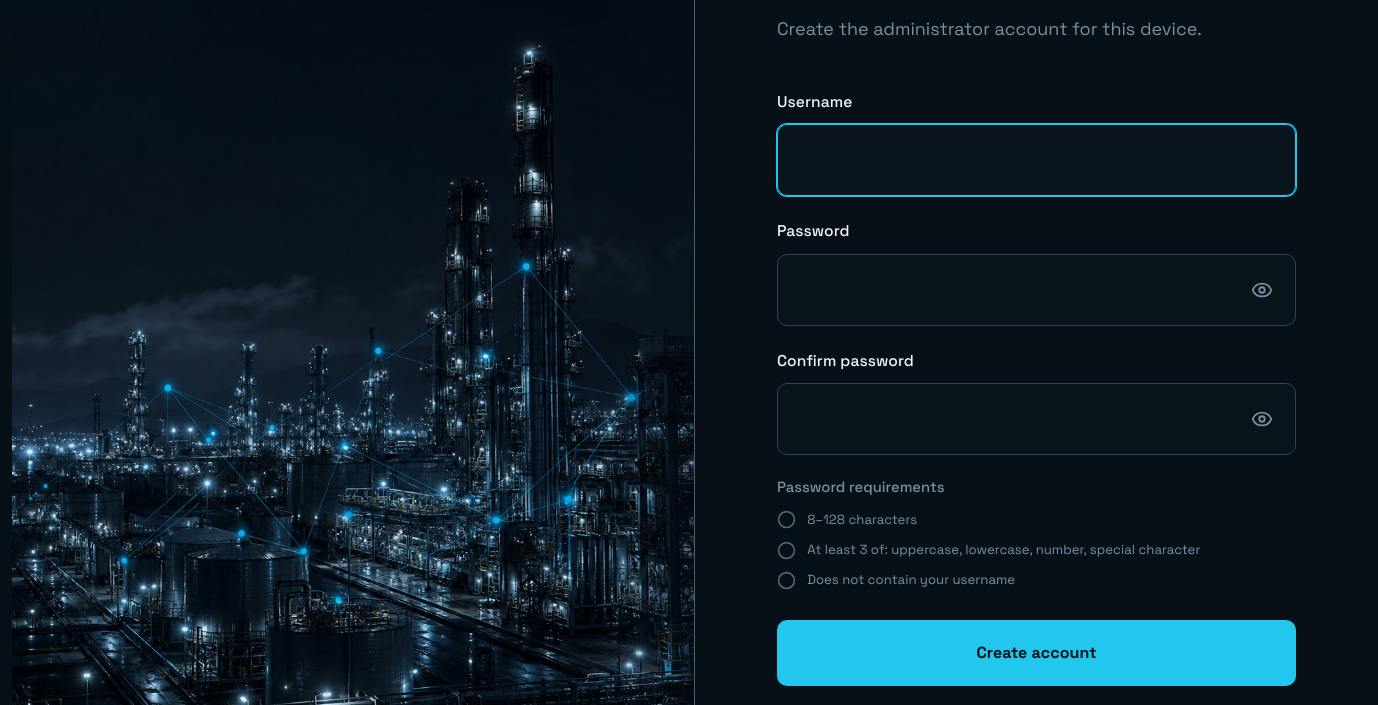
SetupPage › shows required field errors before accepting the form
(page scrolled)
Click the button "Create account": (1037, 653) x1=777 y1=620 x2=1296 y2=686
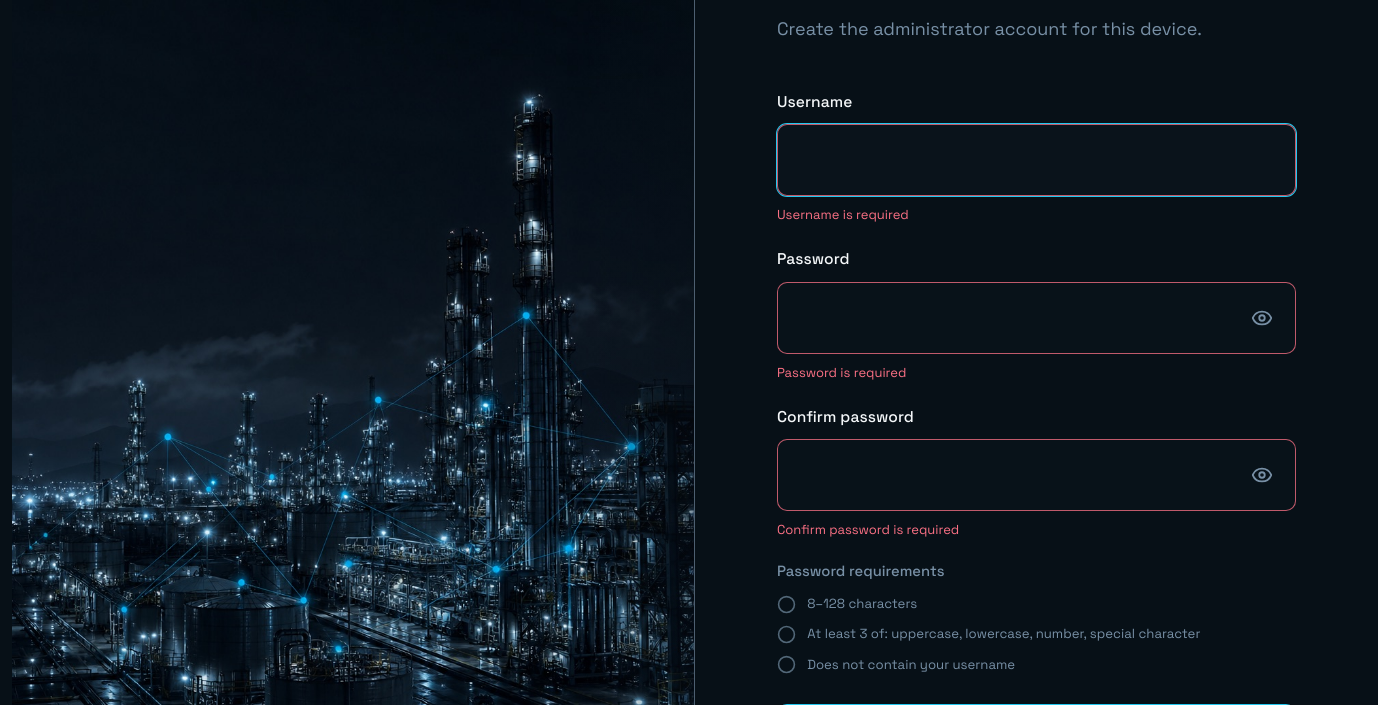
Result: the text "Username is required" is shown at x1=777 y1=206 x2=909 y2=223
Result: the text "Password is required" is shown at x1=777 y1=364 x2=906 y2=381
Result: the text "Confirm password is required" is shown at x1=777 y1=521 x2=959 y2=538
